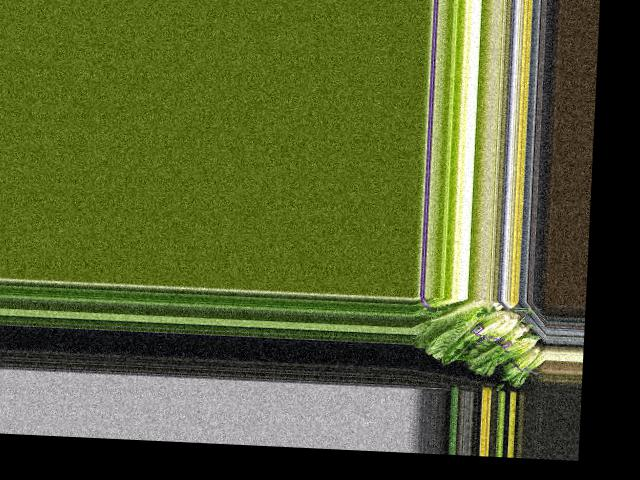lettuce: (412, 300, 491, 358)
